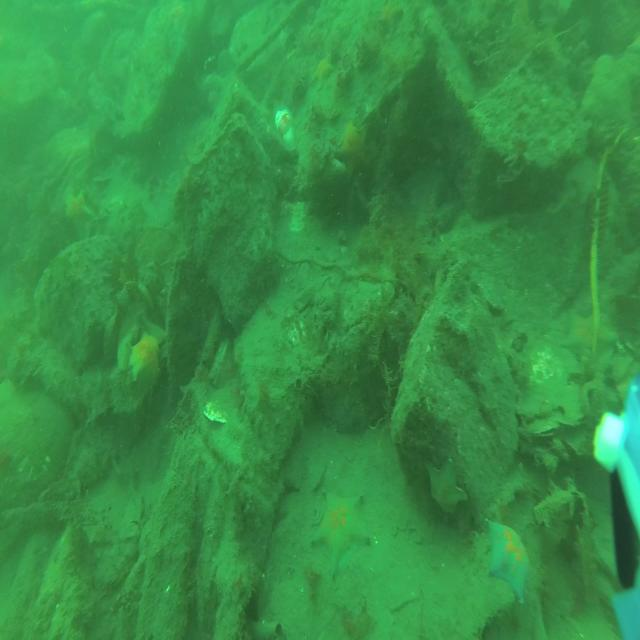scallop: (202, 398, 227, 424)
starfish: (310, 489, 371, 581), (485, 516, 530, 603), (425, 455, 467, 518), (563, 309, 617, 354), (128, 334, 161, 381), (340, 121, 363, 159), (64, 191, 90, 222), (313, 54, 334, 91)
